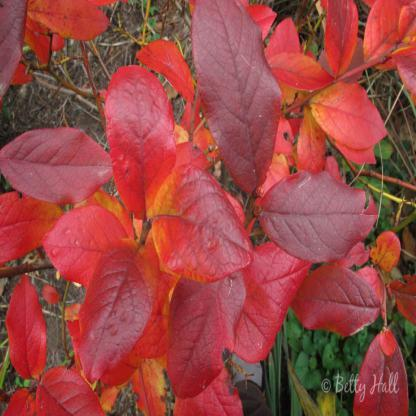Blueberry leaf: (189, 0, 283, 213), (146, 164, 258, 287), (258, 165, 385, 272), (61, 254, 159, 391), (103, 57, 179, 232), (162, 266, 252, 404), (1, 122, 118, 220), (292, 252, 379, 350), (44, 208, 142, 282), (346, 316, 410, 416), (308, 80, 391, 152), (132, 32, 198, 104), (270, 49, 336, 100), (322, 1, 361, 80)
